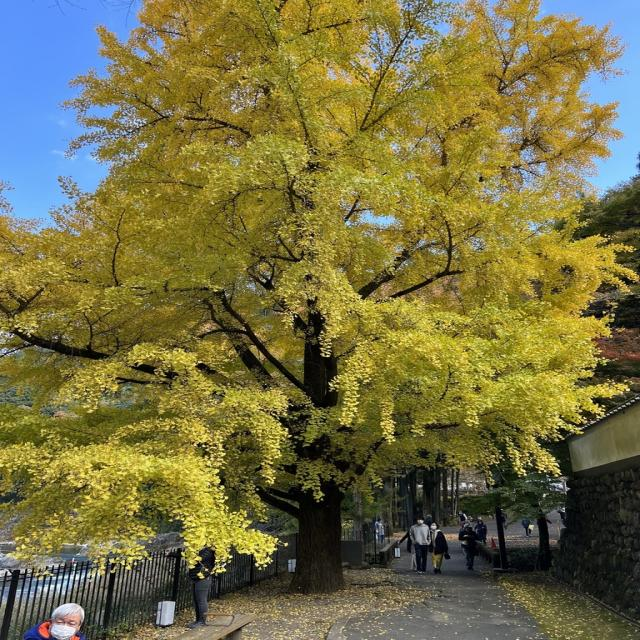ginkgo: (0, 0, 640, 596)
